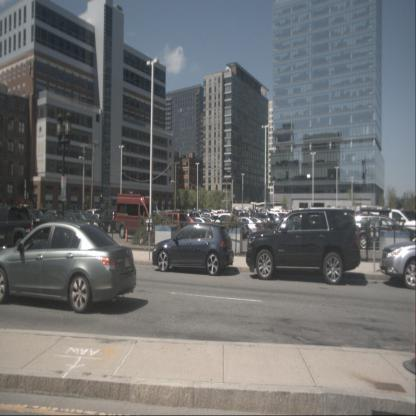movable_object-trafficcone: (124, 228, 129, 243)
vehicle-car: (0, 222, 137, 314), (246, 208, 361, 285), (152, 223, 234, 276), (115, 194, 163, 242), (352, 214, 414, 251), (379, 233, 416, 291), (362, 206, 408, 237), (155, 211, 187, 240), (218, 213, 249, 240), (101, 209, 129, 233), (17, 208, 44, 232), (232, 216, 262, 237), (40, 209, 65, 231), (220, 217, 244, 239), (58, 212, 87, 230), (247, 212, 275, 228), (265, 212, 290, 228), (81, 208, 102, 226), (178, 217, 199, 234), (244, 218, 266, 234), (190, 217, 210, 232), (225, 209, 239, 222)
vehicle-truck: (0, 205, 52, 251)
